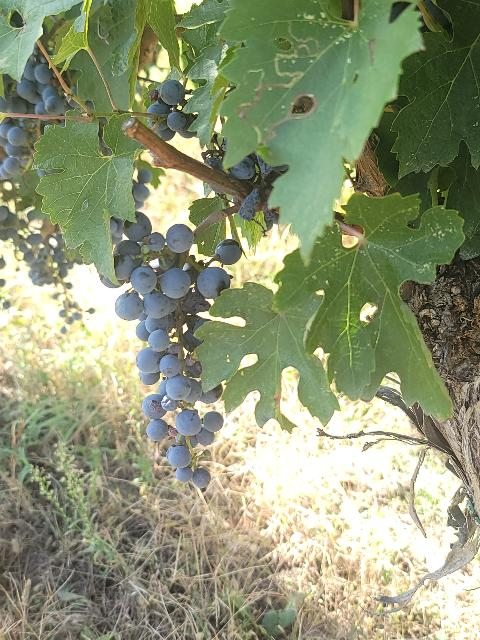grapes: (112, 211, 230, 488)
